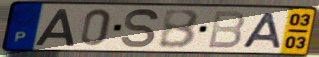0: (79, 7, 114, 48)
A: (32, 8, 76, 47), (239, 11, 283, 49)
B: (157, 8, 202, 50), (205, 9, 247, 50)
S: (120, 7, 161, 50)
